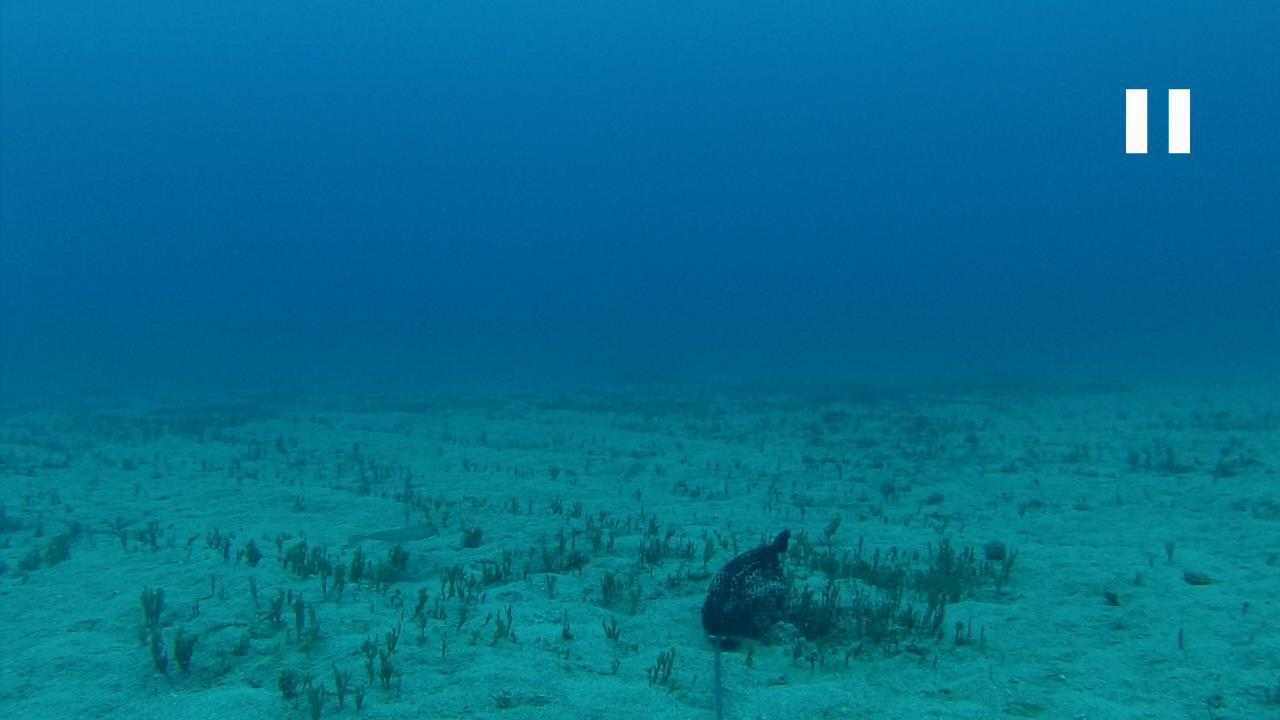bothus: (343, 516, 440, 546)
